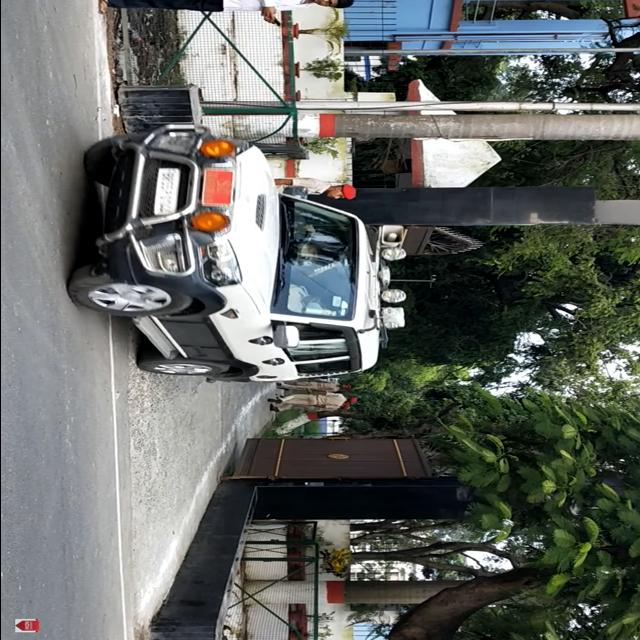emergency-vehicles: (45, 122, 411, 390)
